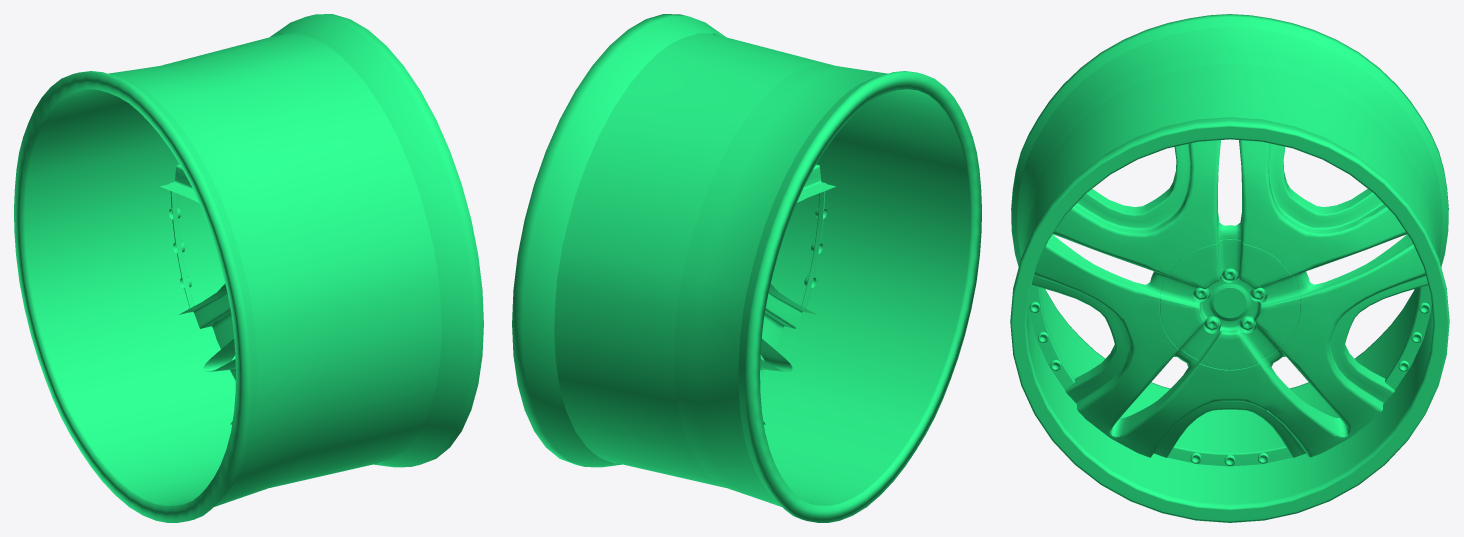
Rendered from tis03.fbx.
3 renders of one model, left to right at view 1: azimuth 30°, elevation 25°; view 2: azimuth 150°, elevation 25°; view 3: azimuth 270°, elevation 25°, orthographic. The views are drawn at different scales.
Visible parts, largest first — view 1: tis03; view 2: tis03; view 3: tis03.
Boxes of the visible parts, <box> form: tis03: <box>14,14,483,522</box>; tis03: <box>512,14,981,522</box>; tis03: <box>1010,14,1449,522</box>.
Bounding box in the file's own units: 1458 × 2444 × 2442.
